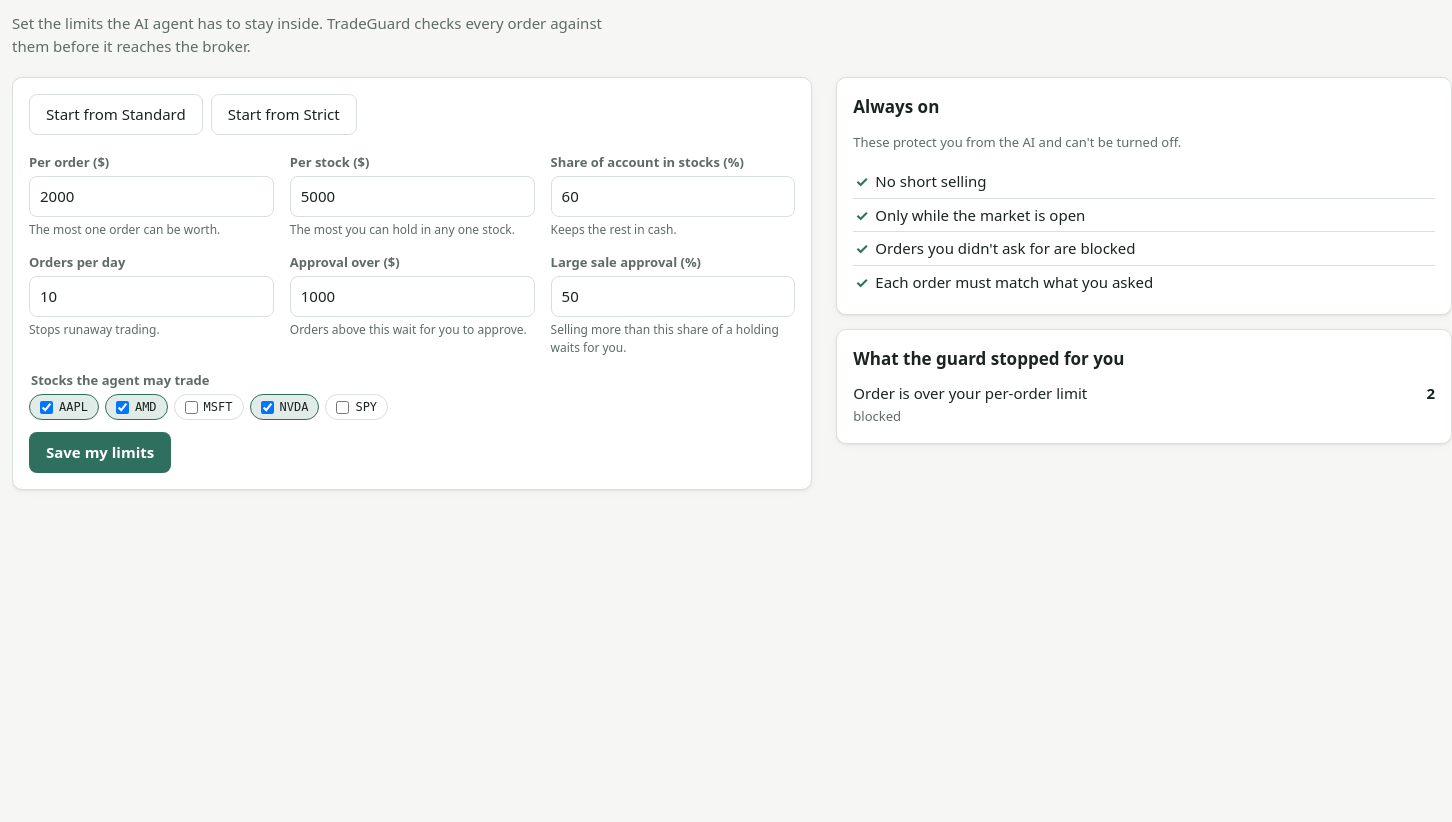
LimitsPage › shows the server's reason when a save is refused
The width and height of the screenshot is (1452, 822).
Click the button "Save my limits". click: (100, 452)
box: [29,432,171,472]
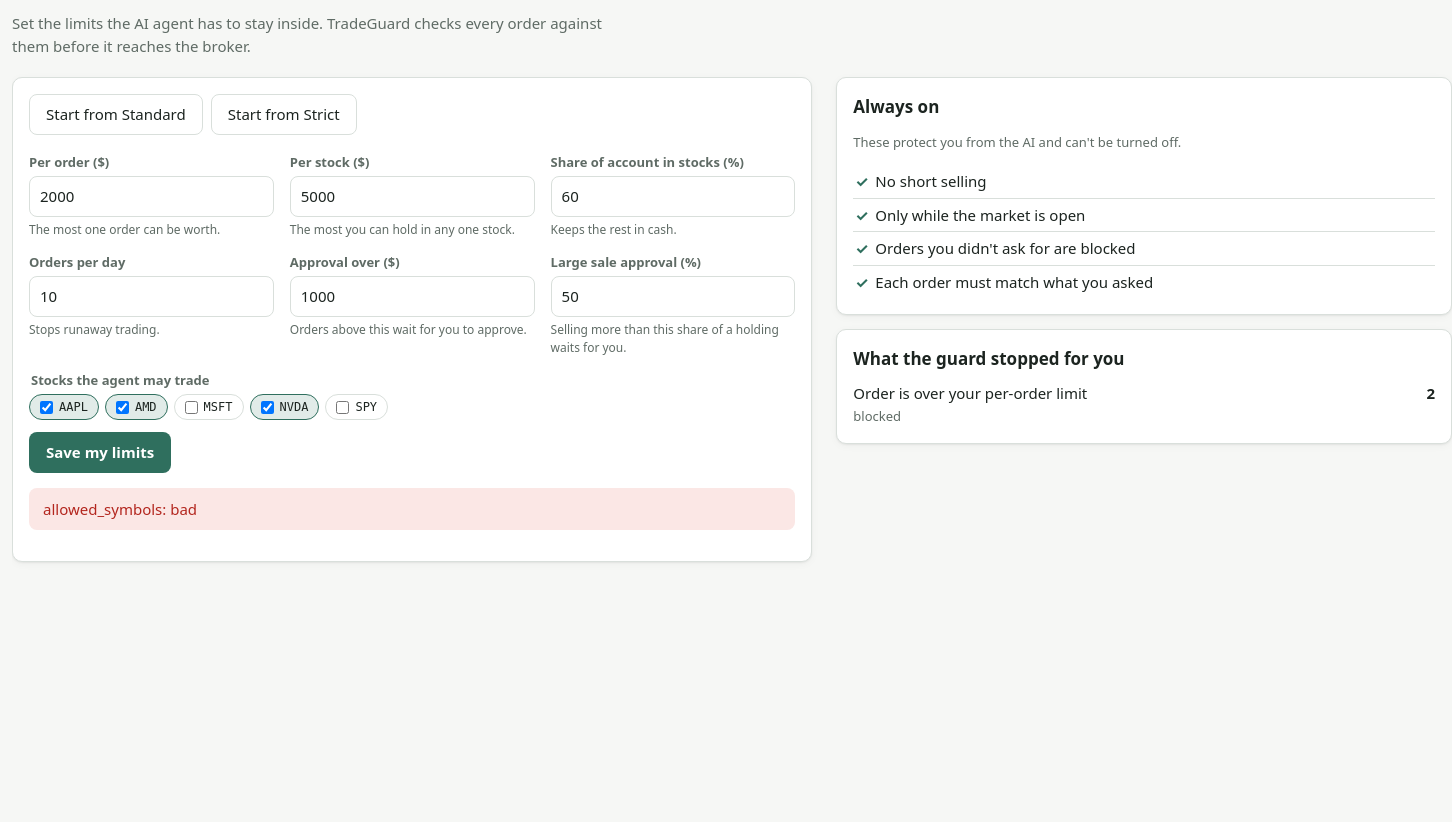
Result: the message reads "allowed_symbols: bad" at [43,498,197,518]
